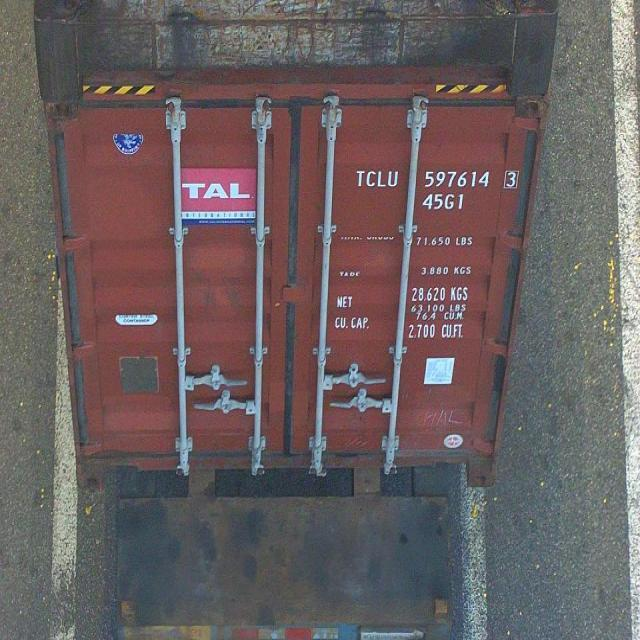ISO: (421, 193, 467, 212)
container_number: (354, 162, 521, 190)
